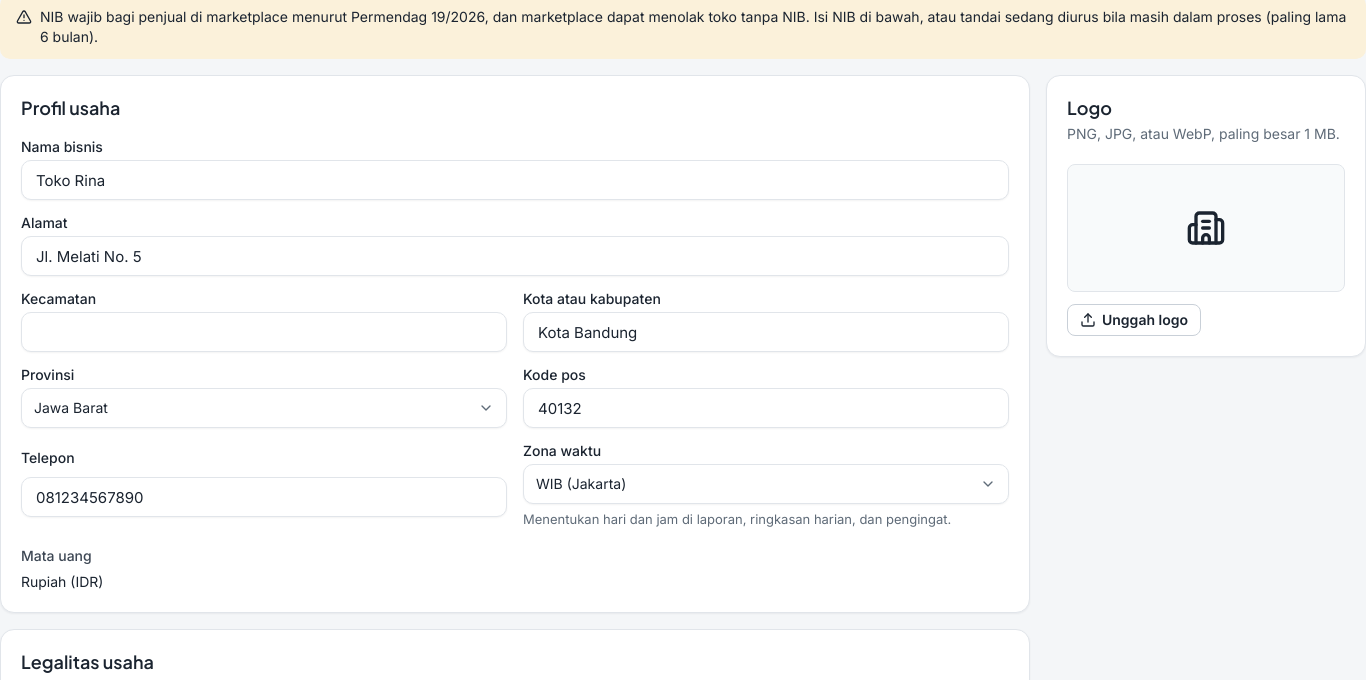
Profil Bisnis & Legalitas › asks for an NIB, and saves only what changed with the version it read
Check: the text "NIB wajib bagi penjual di marketplace menurut Permendag 19/2026" is shown, box left=40, top=8, right=1346, bottom=44
Replace the text in the field labelled "Nama bisnis" with "Toko Rina Jaya": (515, 180) left=21, top=160, right=1009, bottom=200
(page scrolled)
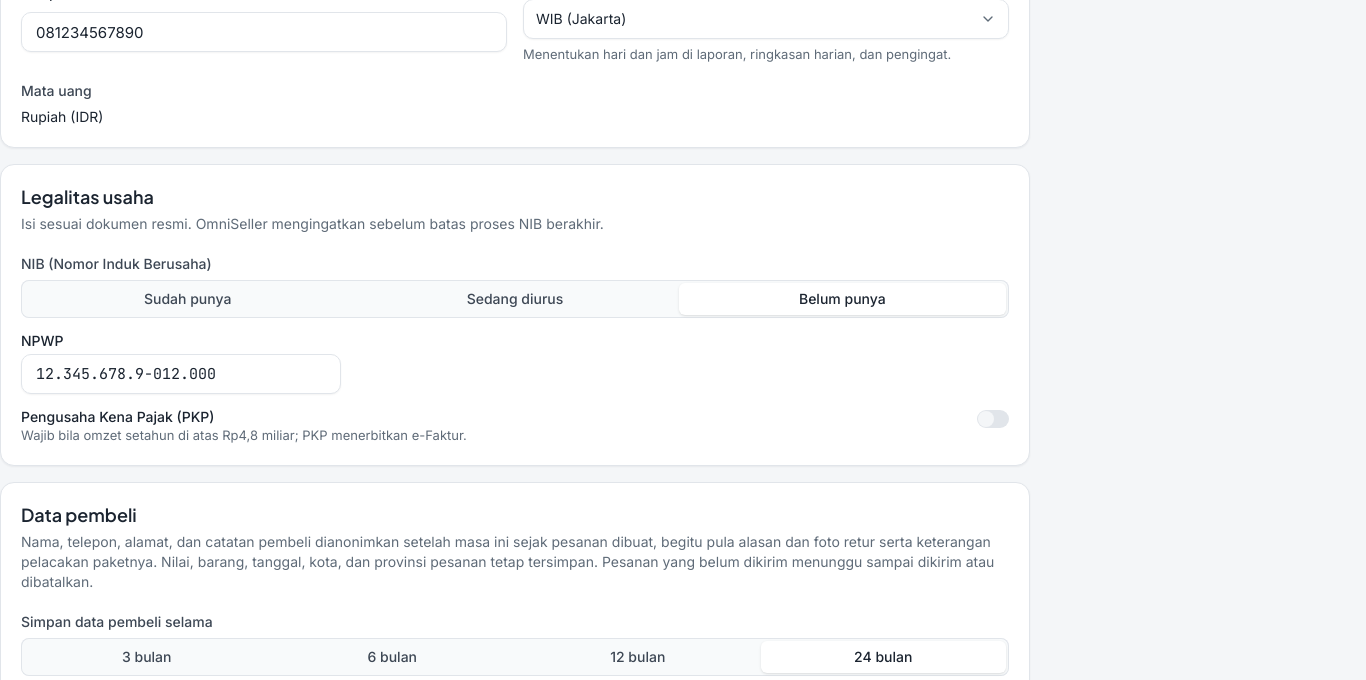
Click the text "Sudah punya": (188, 298) left=144, top=290, right=231, bottom=306
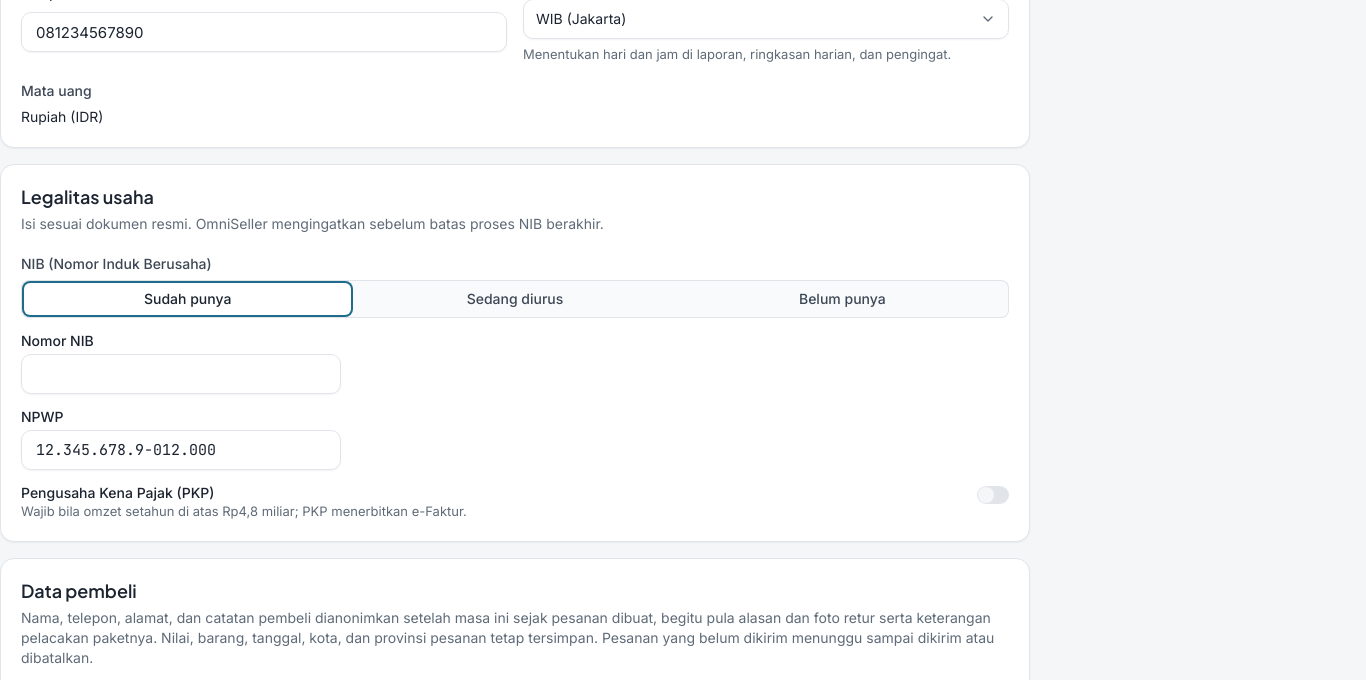
In the field labelled "Nomor NIB": (181, 374) left=21, top=354, right=341, bottom=394, type "1234 5678 90123"
(page scrolled)
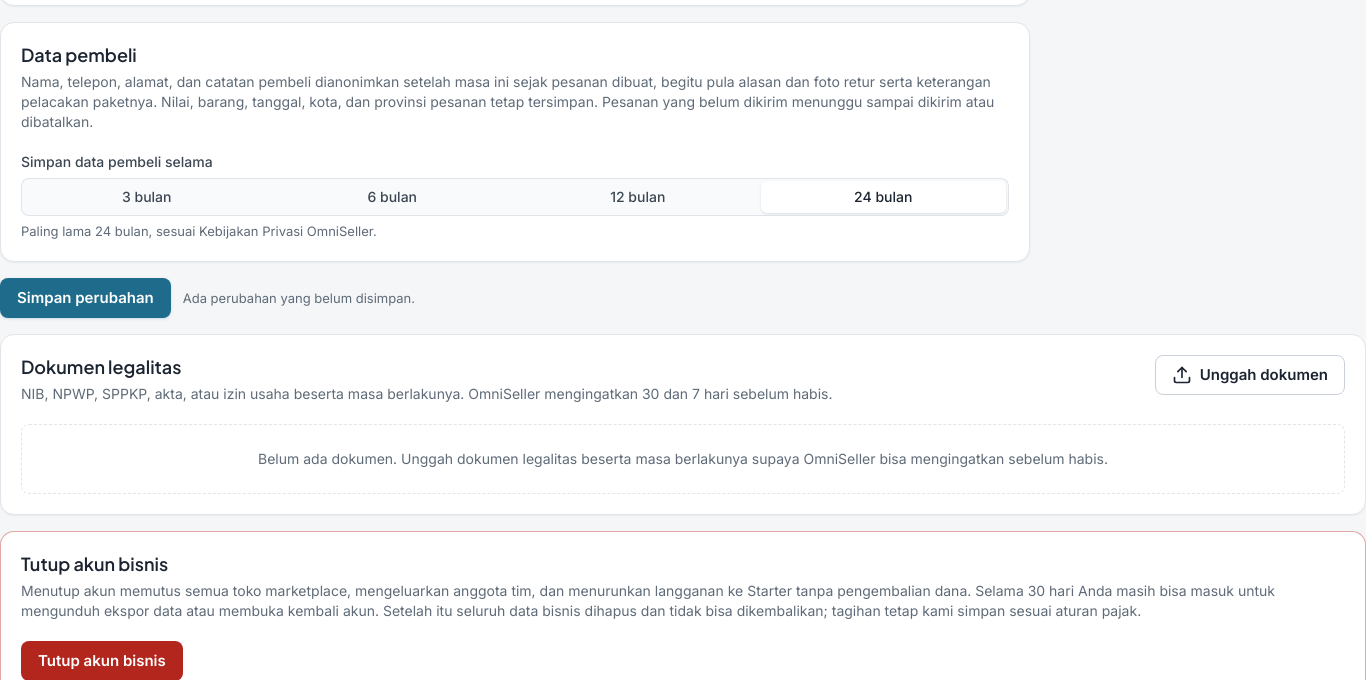
Check: the text "Ada perubahan yang belum disimpan." is shown, box left=183, top=288, right=415, bottom=308
Click the button "Simpan perubahan": (85, 298) left=0, top=278, right=171, bottom=318
(page scrolled)
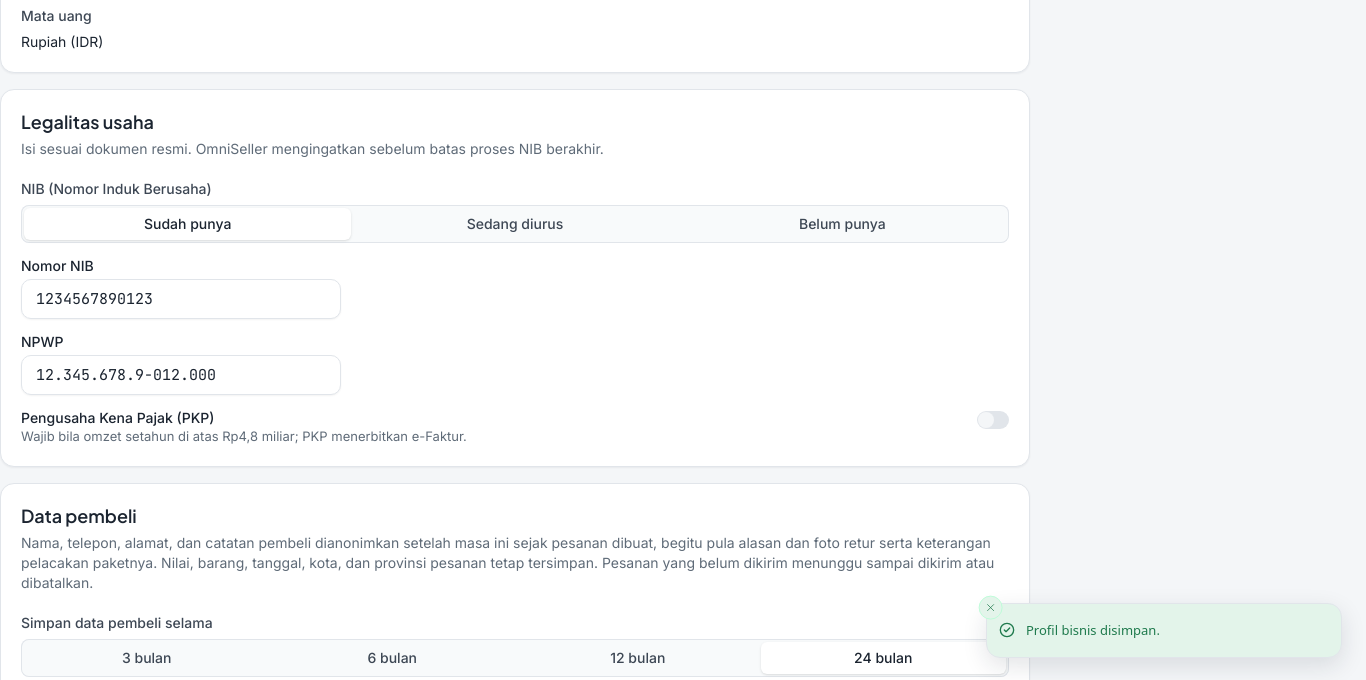
Check: the text "Profil bisnis disimpan." is shown, box left=1026, top=620, right=1160, bottom=641
Check: the field labelled "Nomor NIB" holds "1234567890123", box left=21, top=278, right=341, bottom=318
Check: the text "Ada perubahan yang belum disimpan." is gone
